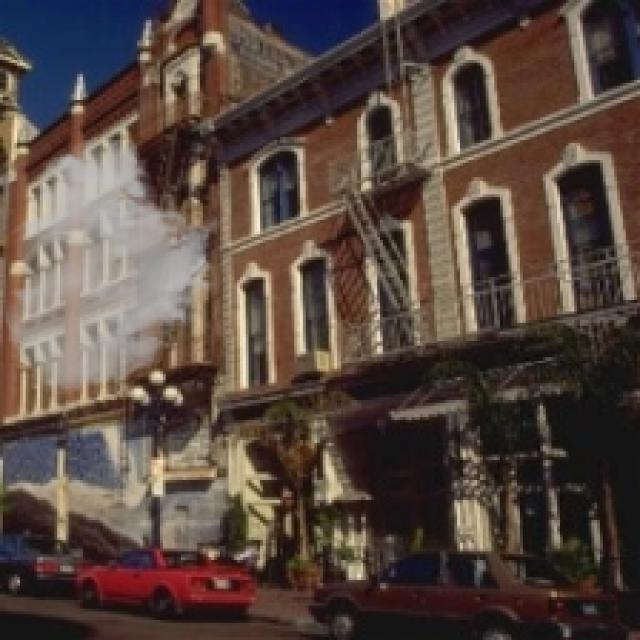smoke: (3, 134, 223, 397)
